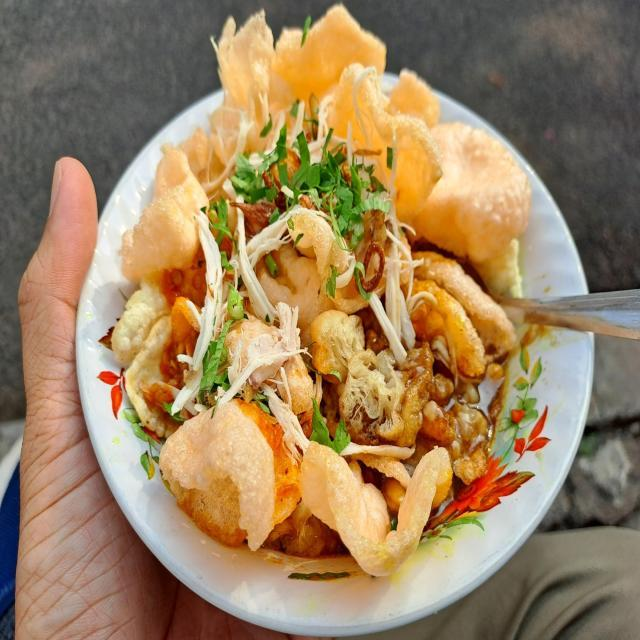bubur ayam: (115, 93, 522, 566)
mangkuk: (74, 70, 596, 634)
